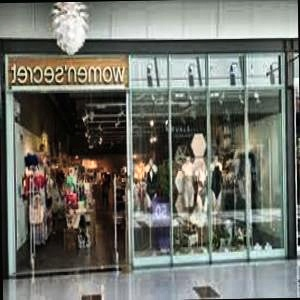women_secret: (122, 31, 129, 93)
